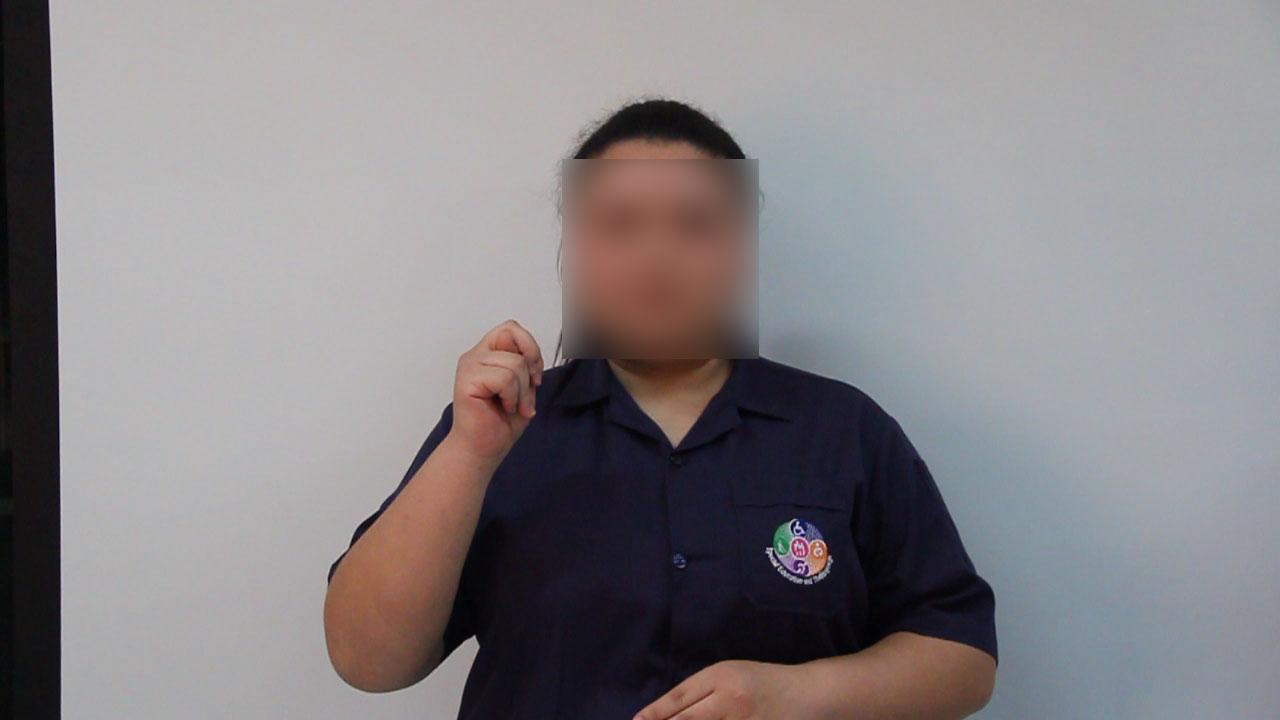nor: (411, 307, 562, 471)
